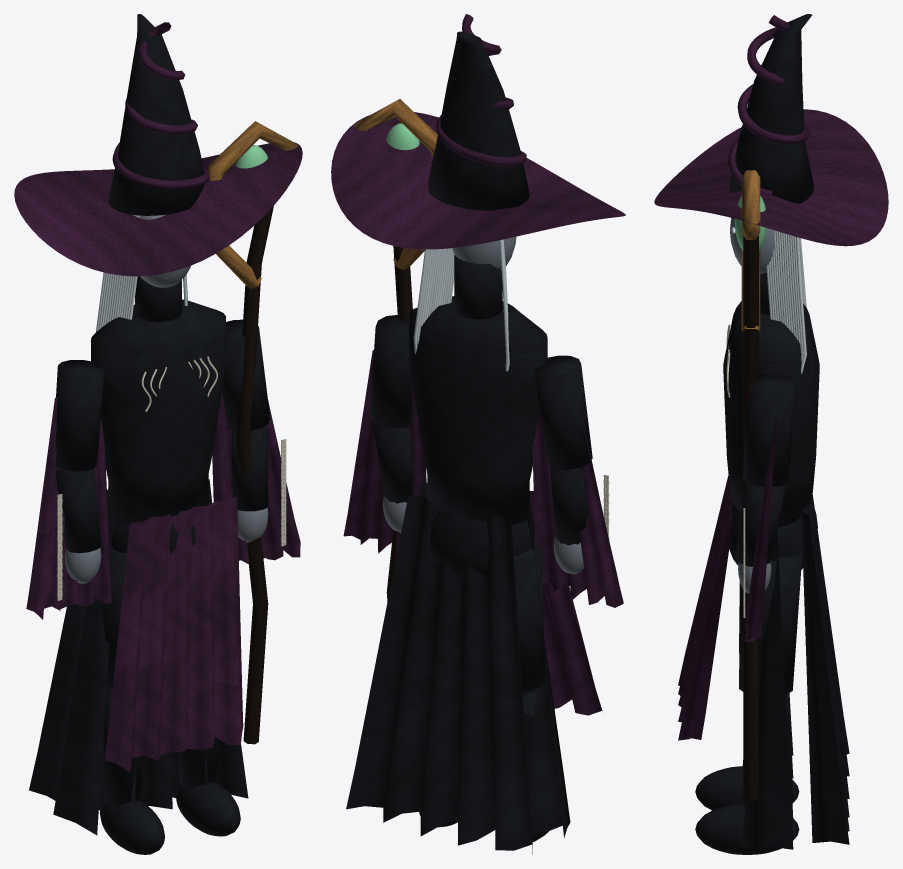
File: hermit.glb
3 renders of one model, left to right at view 1: azimuth 30°, elevation 25°; view 2: azimuth 150°, elevation 25°; view 3: azimuth 270°, elevation 25°, orthographic. The views are drawn at different scales.
Parts seen in each view (by area): view 1: Plum diagonal overskirt, body_Recluse_charcoal_silk, head_Recluse_faded_plum, hermit_Recluse_charcoal_silk, head_Recluse_charcoal_silk, Draped wide sleeve, Gnarled staff, Upper arm L.003, Draped wide sleeve.001, kneeL_Recluse_charcoal_silk, kneeR_Recluse_charcoal_silk, Upper arm R.003 (+10 smaller); view 2: hermit_Recluse_charcoal_silk, body_Recluse_charcoal_silk, head_Recluse_faded_plum, head_Recluse_charcoal_silk, Draped wide sleeve, Draped wide sleeve.001, Upper arm L.003, Plum diagonal overskirt, Upper arm R.003, Thigh L.003, head_Silver_hair.001, Forearm R.003 (+7 smaller); view 3: hermit_Recluse_charcoal_silk, head_Recluse_faded_plum, body_Recluse_charcoal_silk, head_Recluse_charcoal_silk, Plum diagonal overskirt, Gnarled staff, Upper arm R.003, head_Silver_hair.001, Thigh R.003, Draped wide sleeve.001, kneeR_Recluse_charcoal_silk, Forearm R.003 (+3 smaller).
Part boxes in pixels (bbox=[...]): Plum diagonal overskirt: bbox=[104, 496, 243, 772]; body_Recluse_charcoal_silk: bbox=[90, 299, 225, 523]; head_Recluse_faded_plum: bbox=[14, 22, 302, 276]; hermit_Recluse_charcoal_silk: bbox=[29, 479, 248, 835]; head_Recluse_charcoal_silk: bbox=[108, 14, 204, 322]; Draped wide sleeve: bbox=[26, 397, 111, 619]; Gnarled staff: bbox=[235, 206, 273, 744]; Upper arm L.003: bbox=[55, 360, 104, 471]; Draped wide sleeve.001: bbox=[212, 392, 300, 564]; kneeL_Recluse_charcoal_silk: bbox=[100, 687, 164, 854]; kneeR_Recluse_charcoal_silk: bbox=[176, 737, 240, 836]; Upper arm R.003: bbox=[222, 319, 270, 430]; hermit_Recluse_charcoal_silk: bbox=[346, 483, 570, 854]; body_Recluse_charcoal_silk: bbox=[409, 296, 547, 524]; head_Recluse_faded_plum: bbox=[331, 14, 625, 249]; head_Recluse_charcoal_silk: bbox=[428, 31, 529, 319]; Draped wide sleeve: bbox=[532, 400, 623, 607]; Draped wide sleeve.001: bbox=[343, 350, 426, 557]; Upper arm L.003: bbox=[534, 355, 592, 469]; Plum diagonal overskirt: bbox=[529, 491, 602, 715]; Upper arm R.003: bbox=[369, 315, 411, 428]; Thigh L.003: bbox=[513, 536, 545, 691]; head_Silver_hair.001: bbox=[413, 239, 509, 371]; Forearm R.003: bbox=[373, 422, 411, 503]; hermit_Recluse_charcoal_silk: bbox=[729, 495, 849, 849]; head_Recluse_faded_plum: bbox=[654, 15, 888, 246]; body_Recluse_charcoal_silk: bbox=[723, 301, 819, 526]; head_Recluse_charcoal_silk: bbox=[728, 14, 814, 314]; Plum diagonal overskirt: bbox=[678, 475, 732, 740]; Gnarled staff: bbox=[743, 235, 758, 800]; Upper arm R.003: bbox=[743, 374, 795, 486]; head_Silver_hair.001: bbox=[731, 227, 806, 374]; Thigh R.003: bbox=[739, 553, 802, 695]; Draped wide sleeve.001: bbox=[744, 418, 776, 641]; kneeR_Recluse_charcoal_silk: bbox=[695, 694, 799, 854]; Forearm R.003: bbox=[735, 482, 785, 566].
Bounding box in the file's own units: 0.8702 × 2.44 × 0.63.
8 materials, 4 textured.
